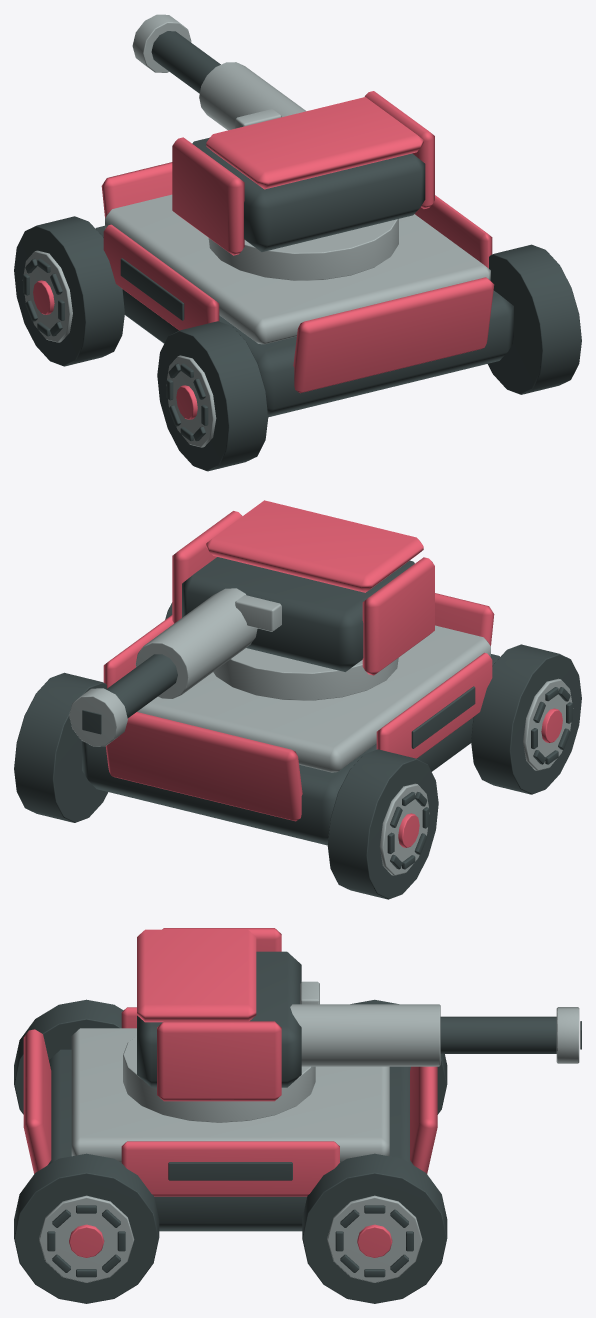
The model's file is hero-red.glb.
3 renders of one model, top to bottom at view 1: azimuth 30°, elevation 25°; view 2: azimuth 150°, elevation 25°; view 3: azimuth 270°, elevation 25°, orthographic.
Visible parts, largest first — view 1: hero-chassis, hero-armor, hero-mechanics; view 2: hero-chassis, hero-armor, hero-mechanics; view 3: hero-chassis, hero-mechanics, hero-armor.
Part boxes in pixels (x1,y1,x2,y2): hero-chassis: [14, 31, 581, 471]; hero-armor: [33, 91, 494, 419]; hero-mechanics: [22, 14, 490, 447]; hero-chassis: [14, 557, 581, 899]; hero-armor: [103, 500, 562, 847]; hero-mechanics: [69, 588, 573, 875]; hero-chassis: [14, 951, 581, 1303]; hero-mechanics: [39, 981, 579, 1282]; hero-armor: [23, 928, 437, 1257].
Size of the model in its own units: 0.7584 by 0.4875 by 1.
